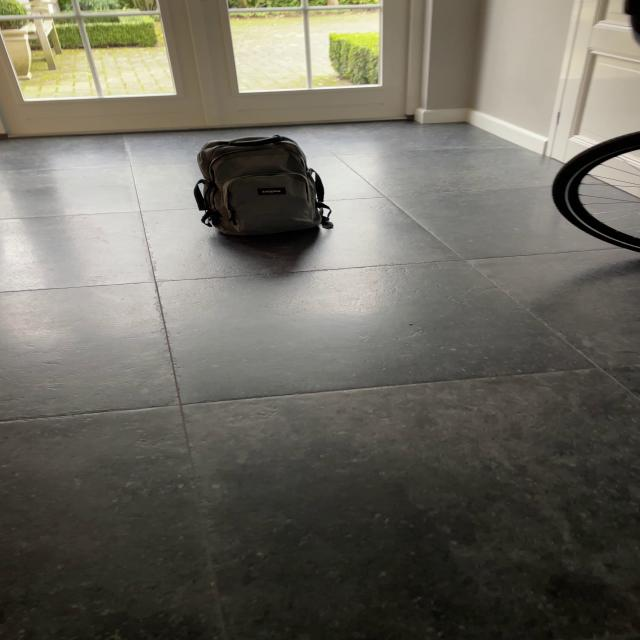backpack: (188, 131, 332, 241)
